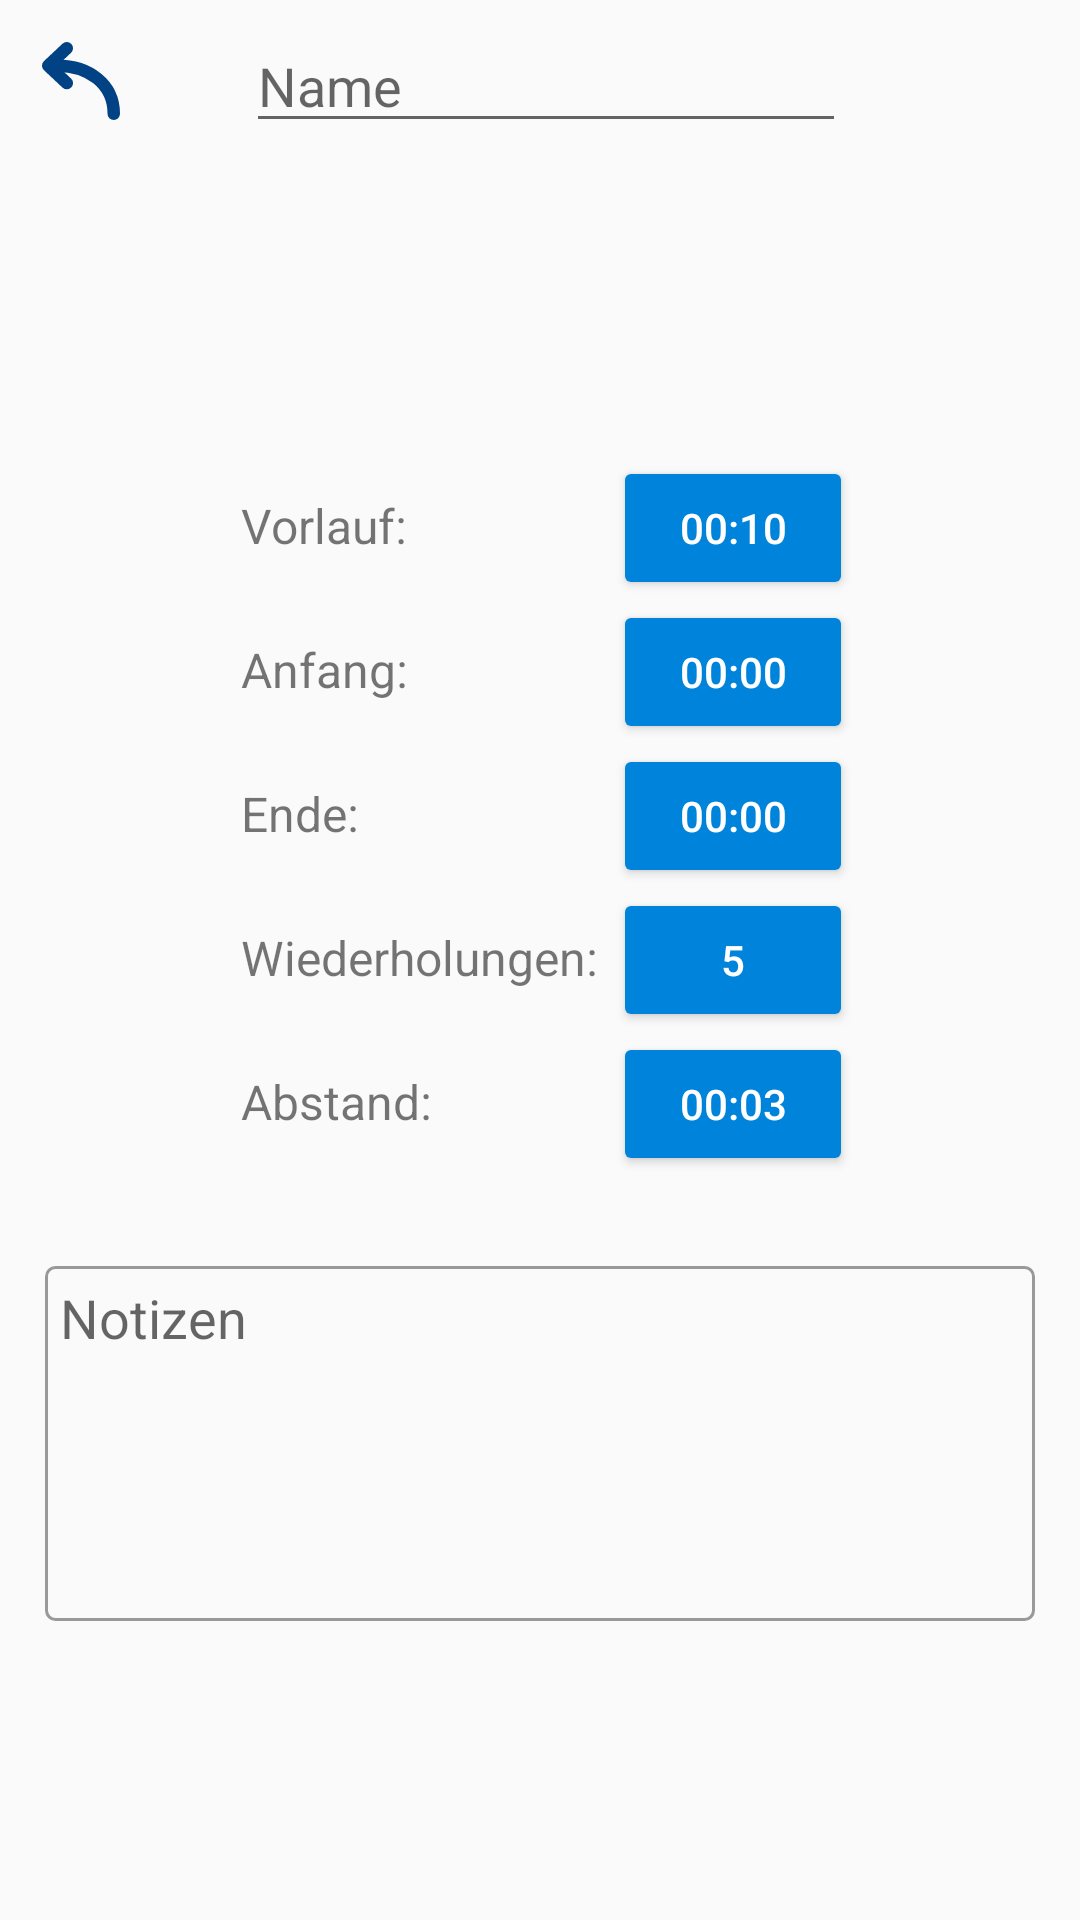

Point at icon controls on the screen. Image size 1080*1920, points as (x,y).
Zurück: (81,81)
